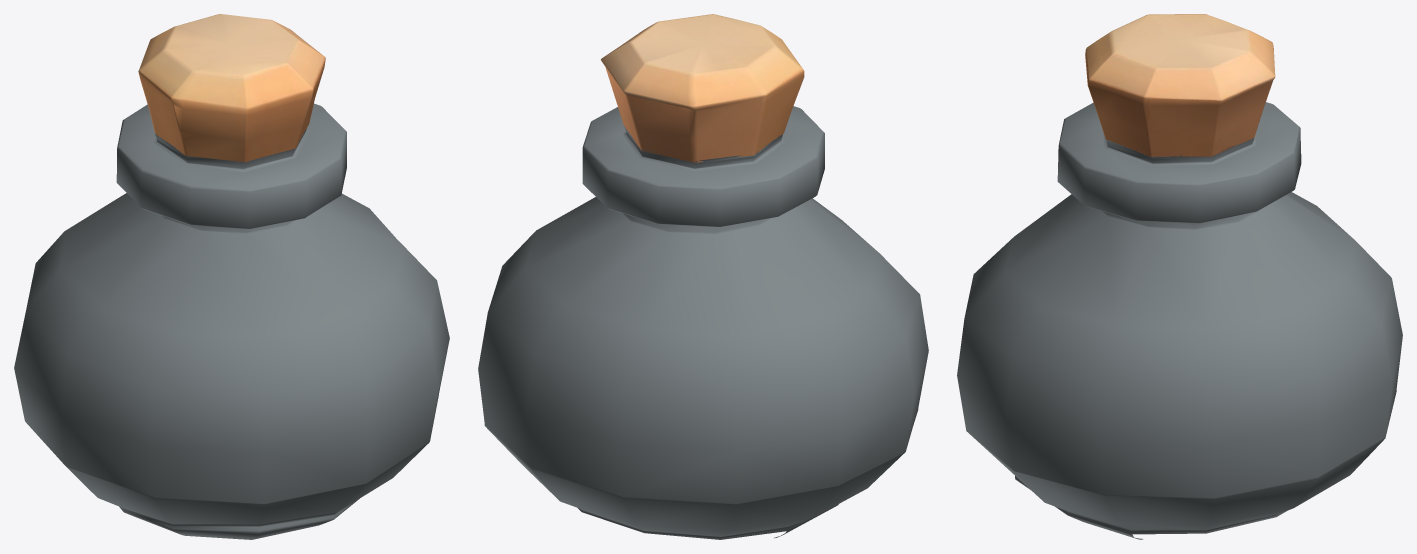
Rendered from PotionBottle.glb.
3 views of the same model, side by side, from view 1: azimuth 30°, elevation 25°; view 2: azimuth 150°, elevation 25°; view 3: azimuth 270°, elevation 25° (orthographic). The views are drawn at different scales.
Visible parts, largest first — view 1: Bottle_Glass, Bottle_Cork; view 2: Bottle_Glass, Bottle_Cork; view 3: Bottle_Glass, Bottle_Cork.
Part boxes in pixels (bbox=[...]): Bottle_Glass: bbox=[14, 103, 449, 539]; Bottle_Cork: bbox=[138, 14, 325, 161]; Bottle_Glass: bbox=[478, 106, 928, 539]; Bottle_Cork: bbox=[601, 14, 804, 162]; Bottle_Glass: bbox=[957, 102, 1402, 539]; Bottle_Cork: bbox=[1085, 14, 1275, 157].
Bounding box in the file's own units: 0.2668 × 0.3 × 0.2679.
3 materials, 3 textured.
